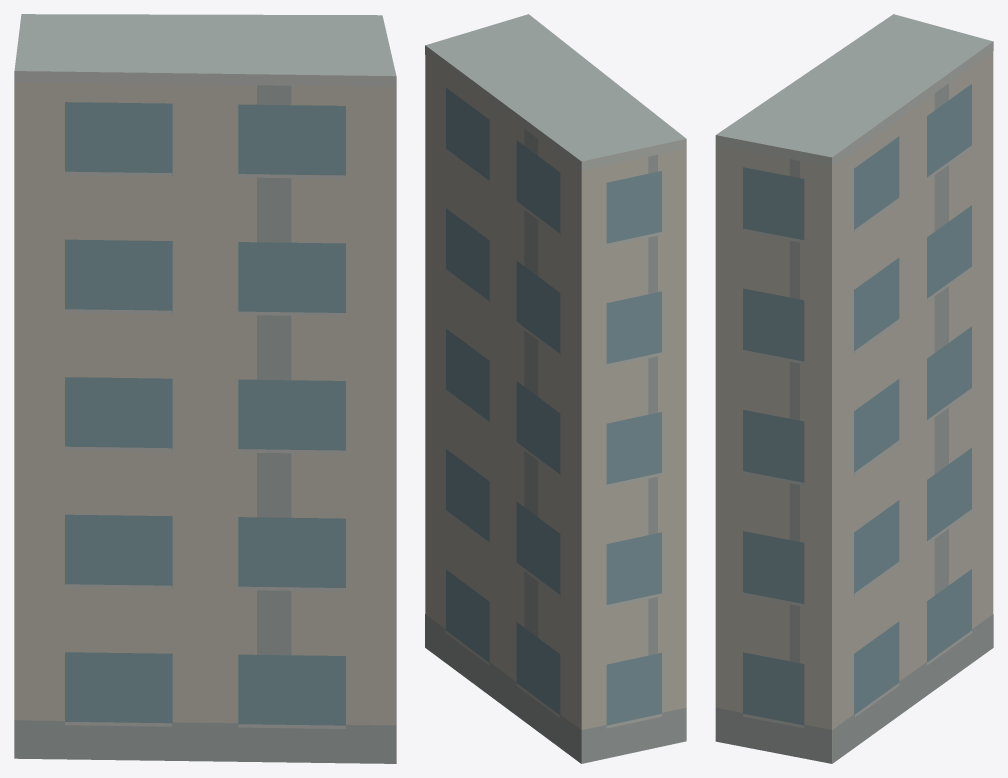
Rendered from survey-upis-32877646.glb.
3 views of the same model, side by side, from view 1: azimuth 30°, elevation 25°; view 2: azimuth 150°, elevation 25°; view 3: azimuth 270°, elevation 25° (orthographic). The views are drawn at different scales.
Parts seen in each view (by area): view 1: survey-upis-32877646.tmp; view 2: survey-upis-32877646.tmp; view 3: survey-upis-32877646.tmp.
Part boxes in pixels (<box>): survey-upis-32877646.tmp: <box>14,14,396,763</box>; survey-upis-32877646.tmp: <box>425,14,686,763</box>; survey-upis-32877646.tmp: <box>715,14,993,763</box>.
Size of the model in its own units: 7.74 by 15.25 by 6.34.
